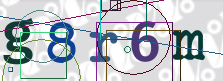6: (129, 19, 160, 63)
8: (46, 20, 77, 64)
g: (2, 18, 34, 65)
m: (171, 28, 205, 60)
r: (88, 31, 118, 64)
